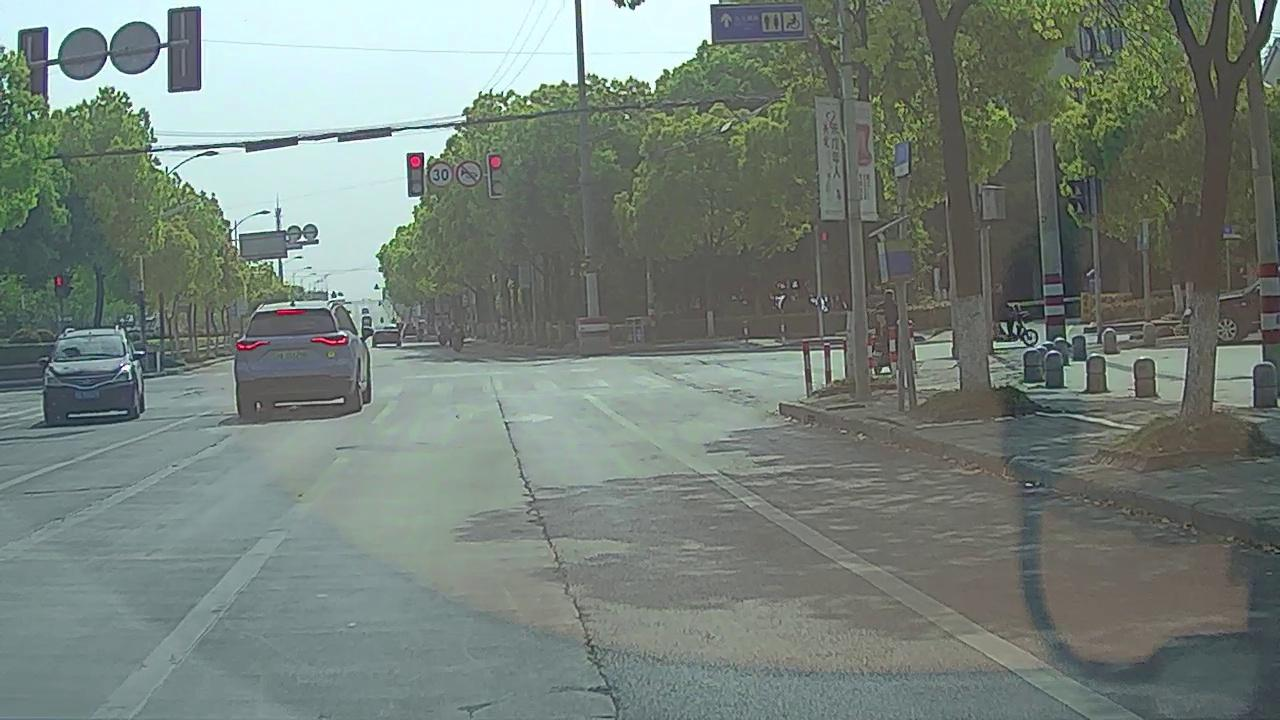traffic_light: (487, 150, 506, 196), (408, 153, 423, 196)
